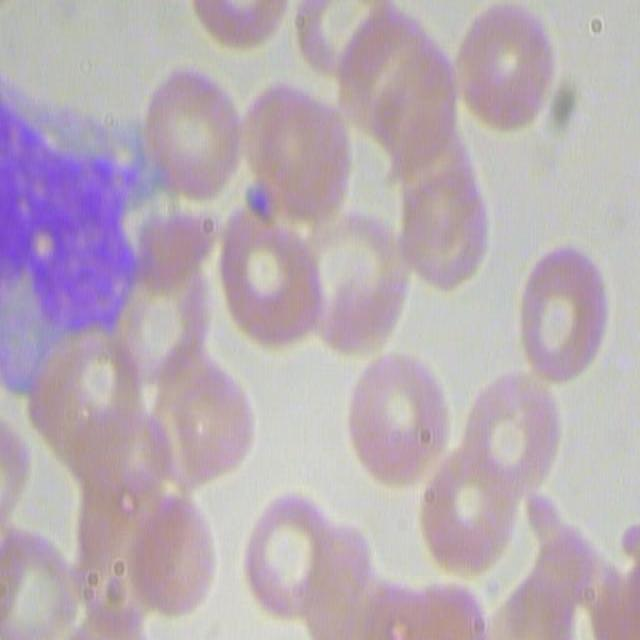RBC: (73, 447, 221, 633), (376, 120, 492, 300), (294, 198, 409, 358), (2, 431, 116, 580), (335, 0, 454, 139), (30, 326, 147, 466), (215, 204, 321, 358), (142, 351, 256, 494), (441, 2, 560, 134), (343, 351, 452, 494), (240, 487, 346, 628), (516, 236, 612, 391), (145, 62, 248, 205), (123, 485, 226, 622), (418, 446, 518, 568), (458, 366, 557, 489), (105, 274, 202, 391), (0, 534, 85, 638), (293, 0, 377, 75), (186, 0, 292, 52)
WBC: (3, 82, 134, 344)
